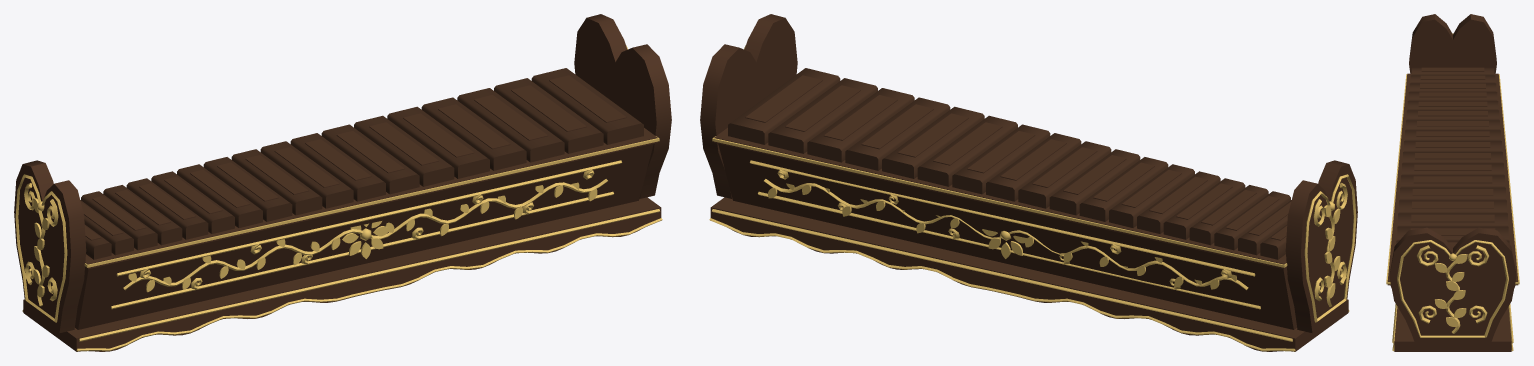
Rendered from gamelar_gambang_set.fbx.
The picture shows the model from 3 angles, left to right: view 1: azimuth 30°, elevation 25°; view 2: azimuth 150°, elevation 25°; view 3: azimuth 270°, elevation 25°; orthographic projection. The views are drawn at different scales.
Visible parts, largest first — view 1: GambangSet_Mesh; view 2: GambangSet_Mesh; view 3: GambangSet_Mesh.
Boxes of the visible parts, x1,y1,x2,y2 form: GambangSet_Mesh: (14,14,671,351); GambangSet_Mesh: (700,14,1357,351); GambangSet_Mesh: (1386,14,1519,351).
Size of the model in its own units: 1.21 by 0.3234 by 0.3064.
